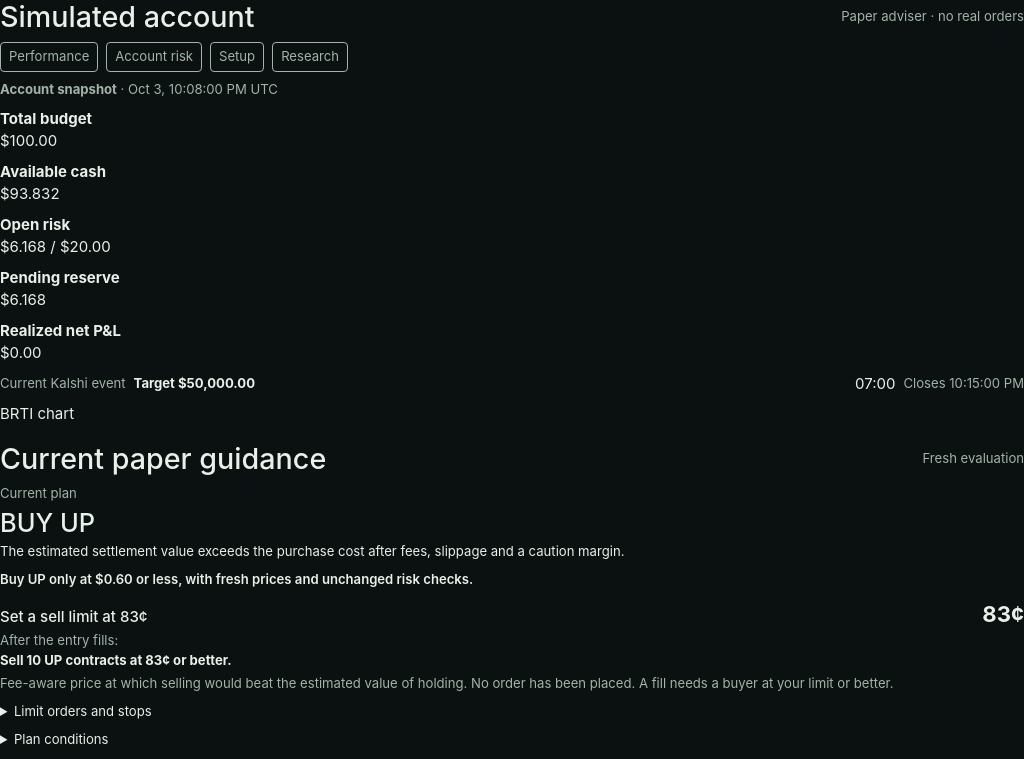
Scenario: does not present zero completed comparisons as measured strategy improvement
Click the button "Performance" at (49, 57), box [0,42,98,72]
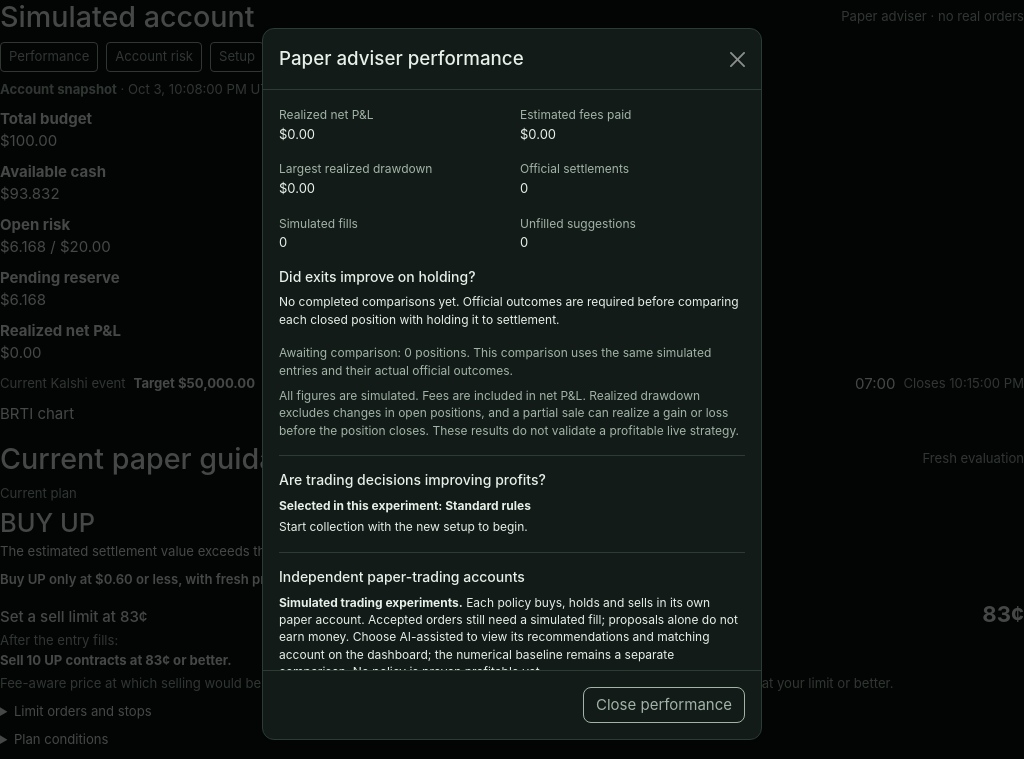
Expected: the text "No completed comparisons yet" is shown, [279,294,739,327]
